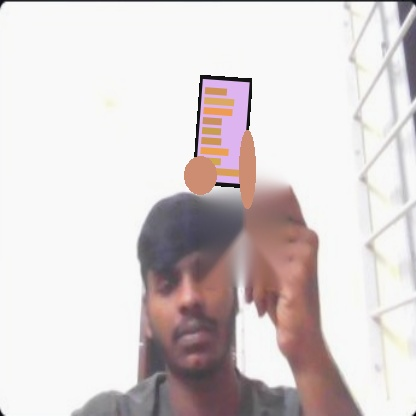cell_phone: (192, 75, 252, 188)
